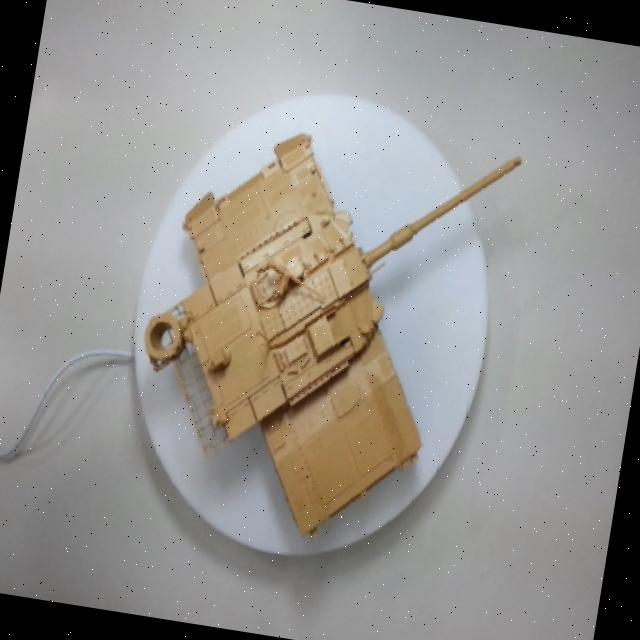korea tank: (96, 78, 566, 588)
